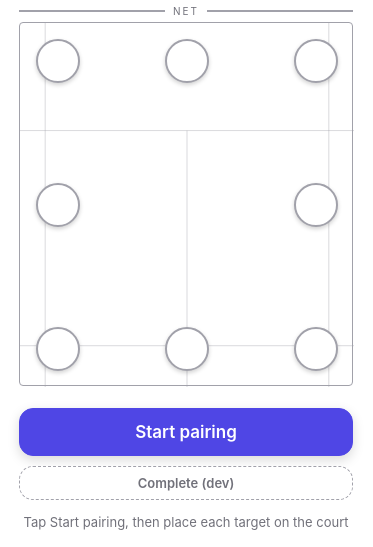
a round opens at the max — every unbound spot pulses, inviting a tap
The width and height of the screenshot is (373, 547).
Click the button with test id "start-pairing" at [186, 432], box [19,408,353,456]
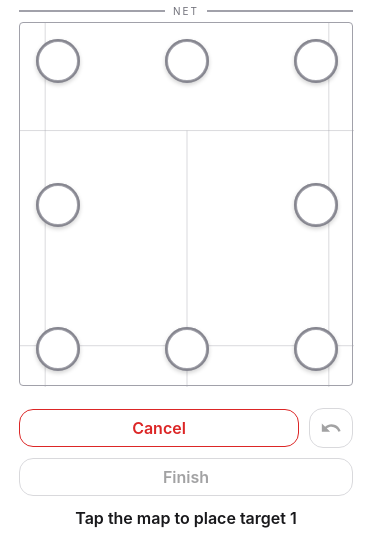
Expected: the text "Tap the map to place target 1" is shown, [75,508,297,528]
